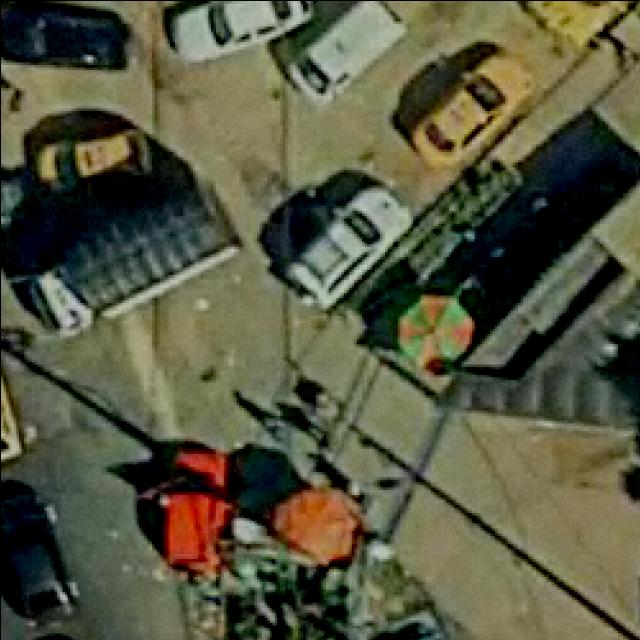vendedor_ambulante: (265, 480, 367, 562), (390, 288, 478, 374)
